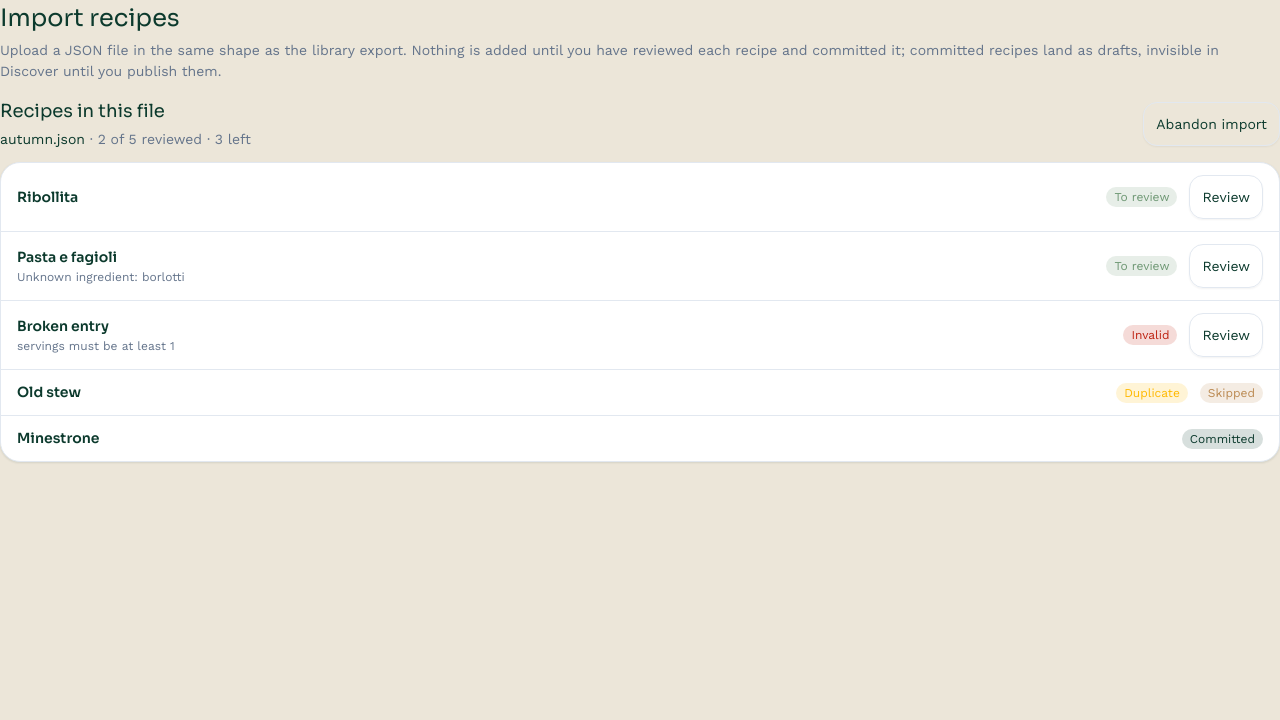
Scenario: confirming the discard deletes the batch and offers a fresh file
This screenshot has width=1280, height=720.
Check: the text "Ribollita" is shown, box top-left (17, 188), bottom-right (78, 206)
Click the button "Abandon import".
click(1212, 124)  # box top-left (1143, 102), bottom-right (1279, 146)
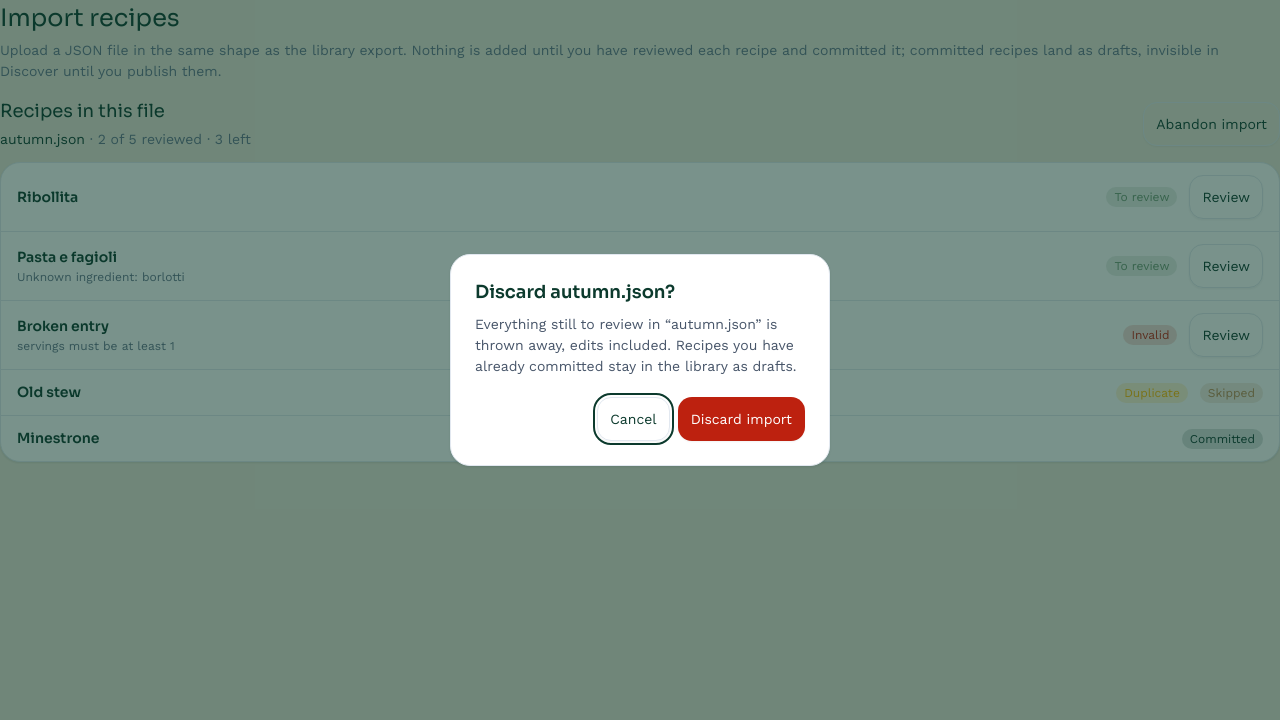
Click the button "Discard import".
click(741, 419)  # box top-left (678, 397), bottom-right (805, 441)
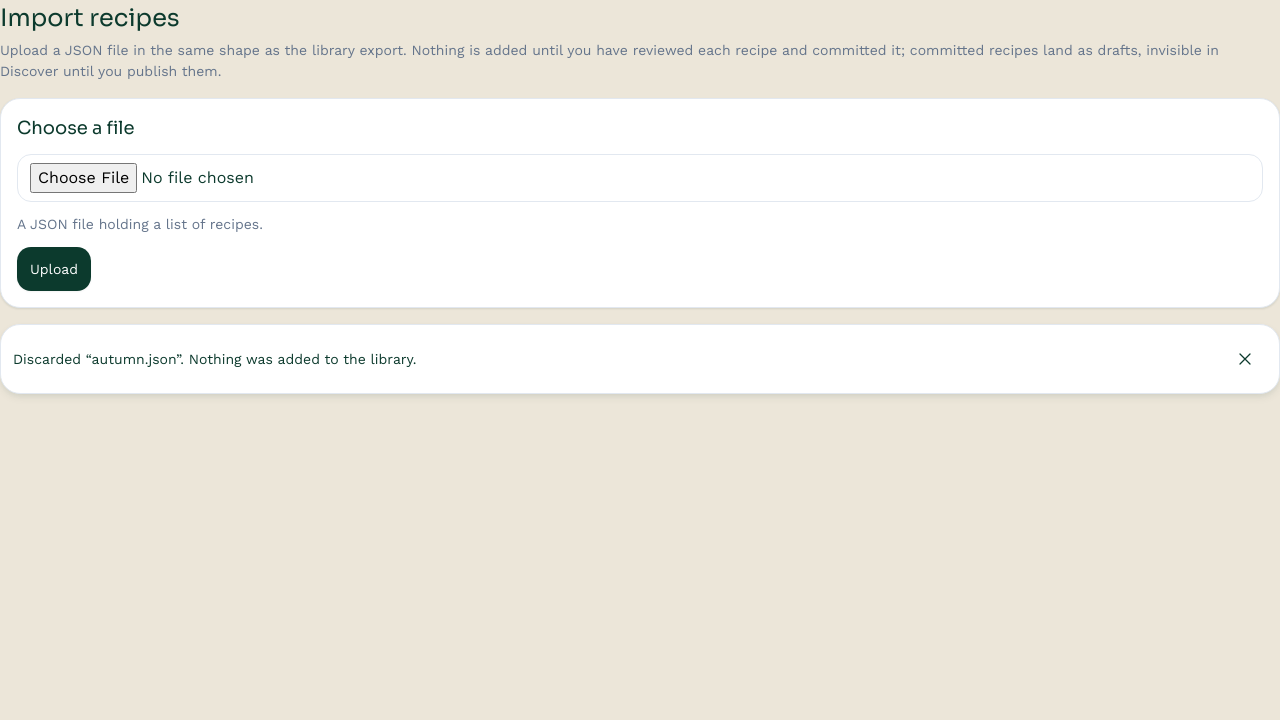
Check: the file field named "Choose a recipe file" is shown, box top-left (17, 154), bottom-right (1263, 202)
Check: the text "Ribollita" is gone
